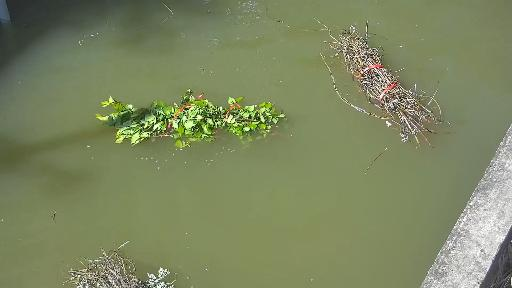twig: (308, 15, 434, 152), (83, 80, 303, 150), (67, 236, 203, 288)
